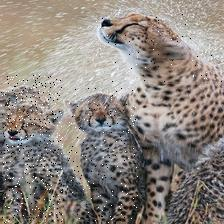Cheetha: (93, 9, 224, 84), (67, 89, 138, 224), (1, 74, 63, 224)
